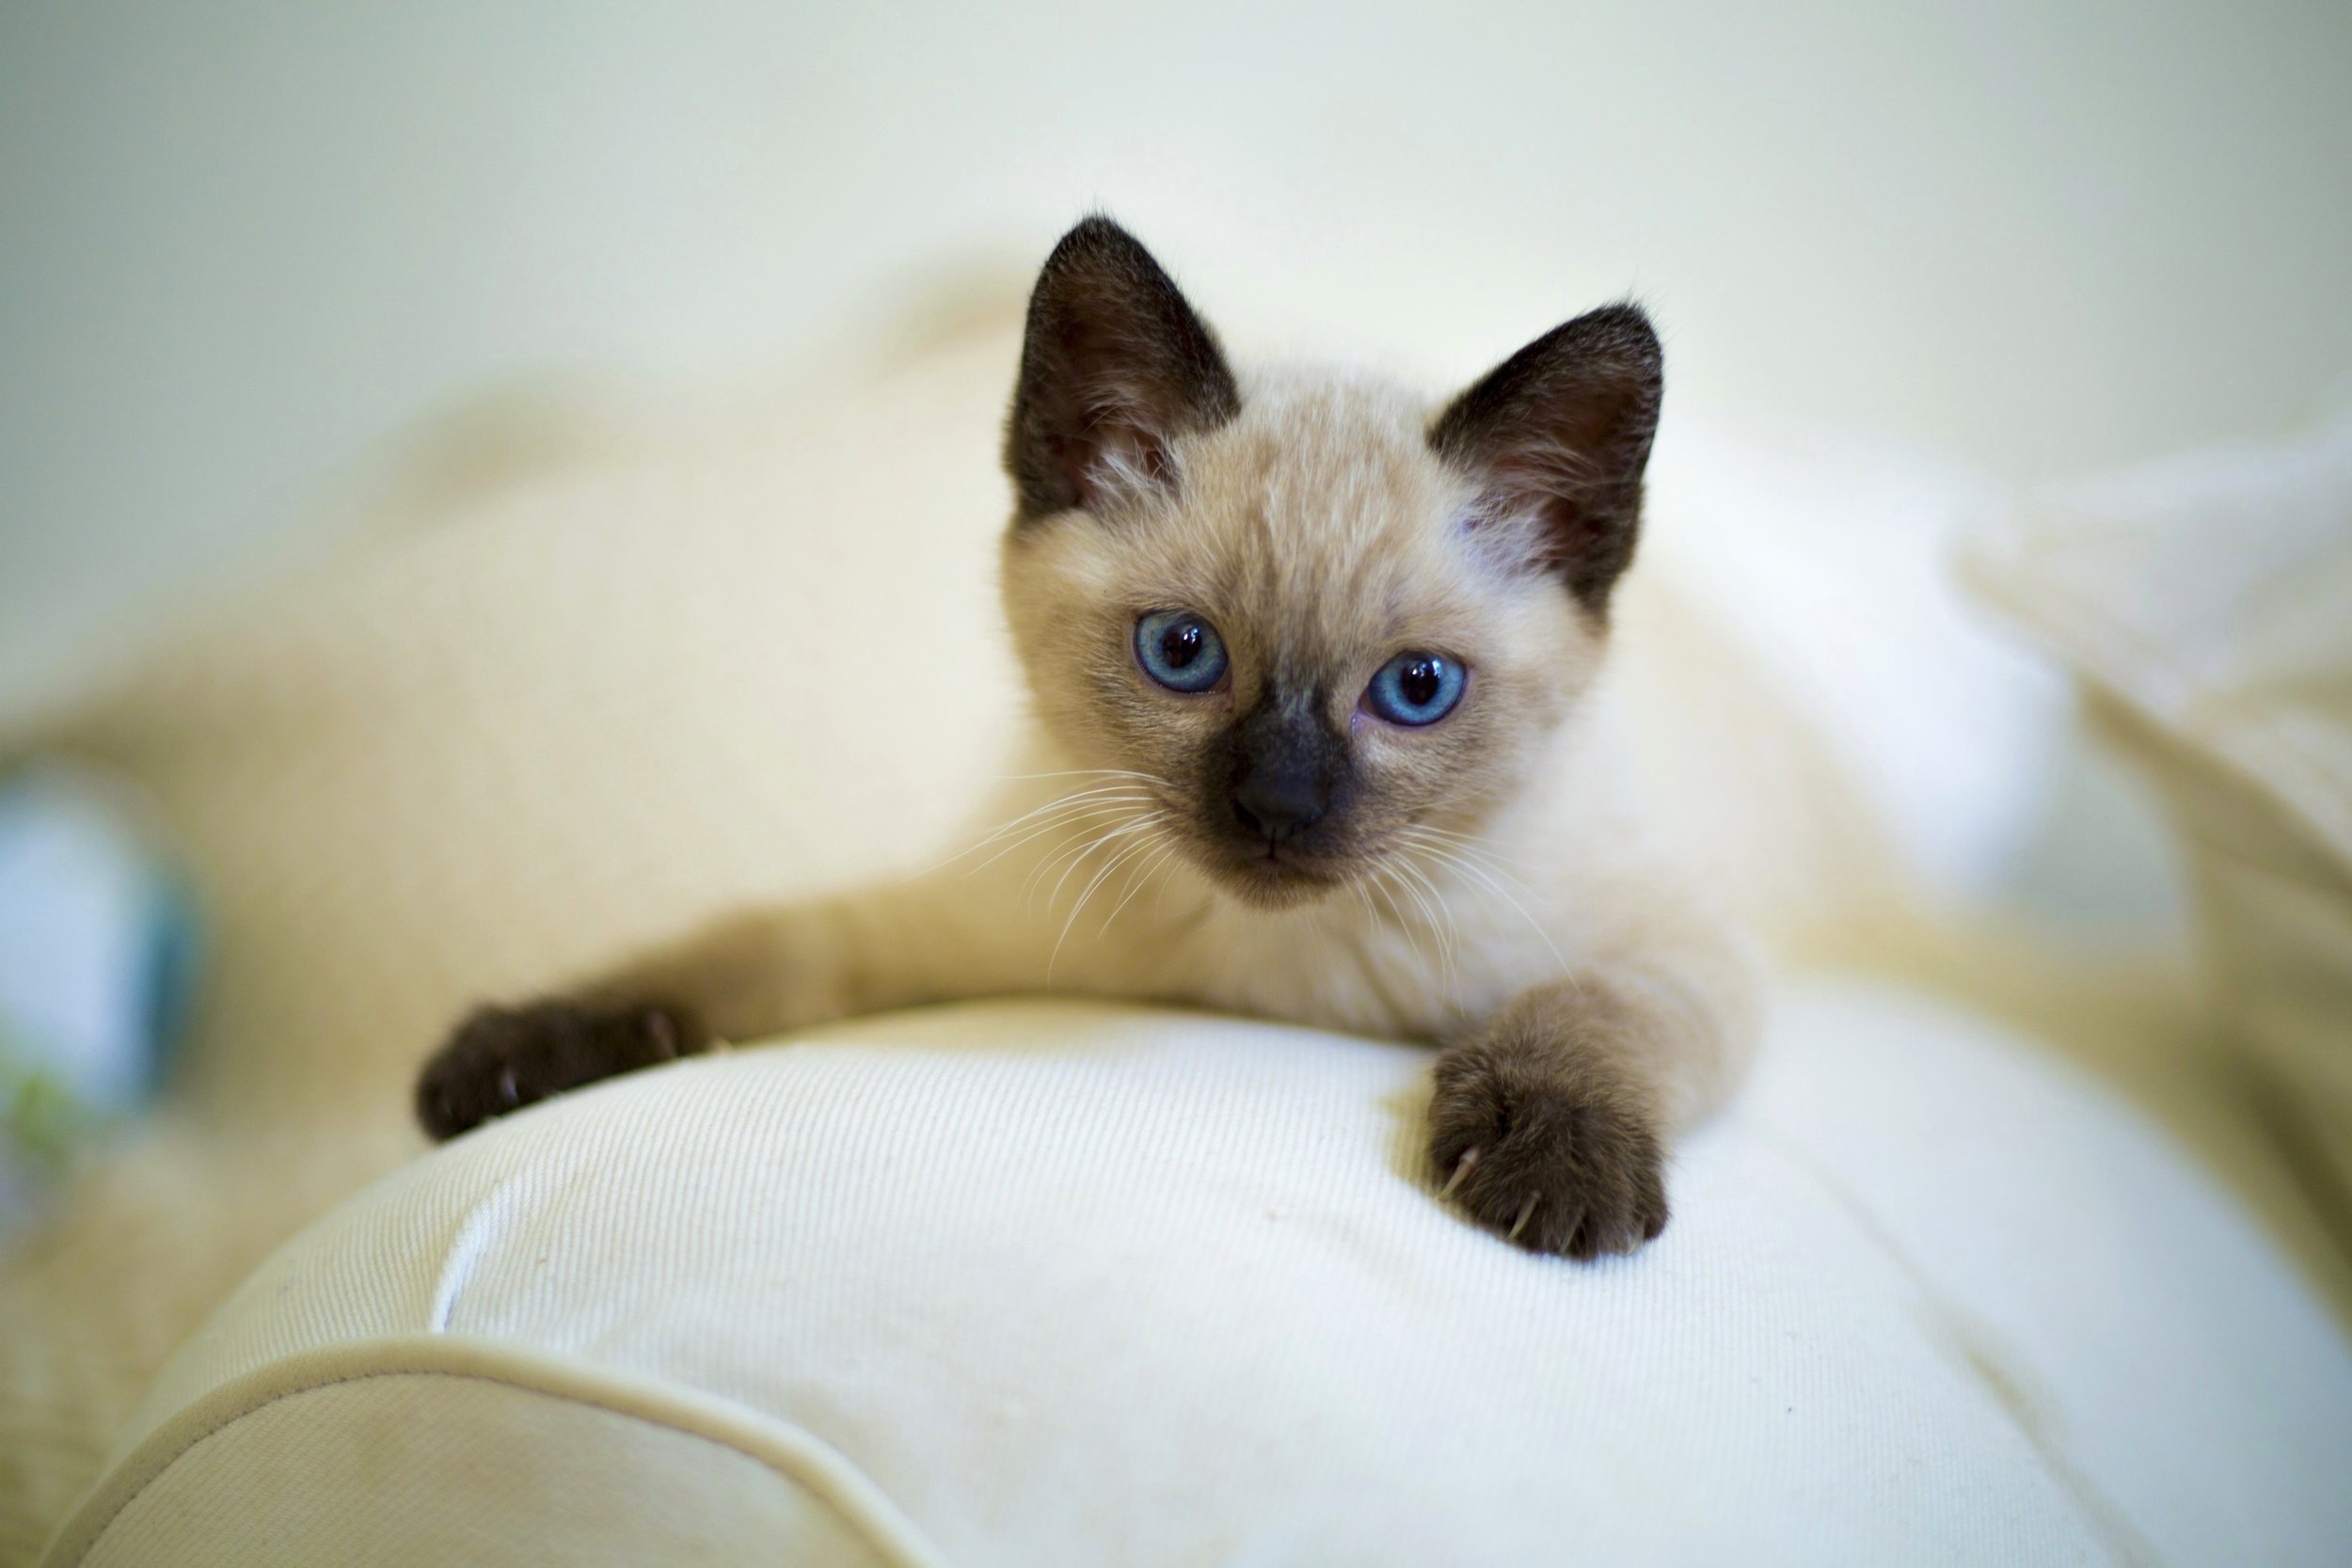cat: (479, 196, 1837, 1300)
